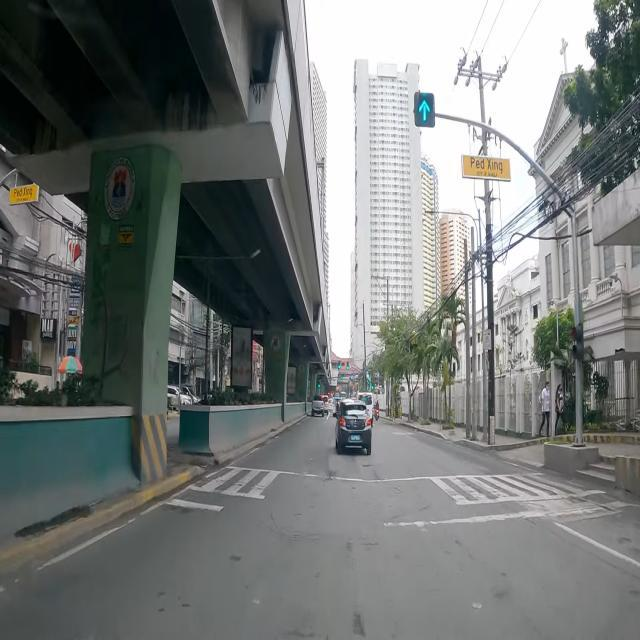car: (336, 397, 372, 454), (167, 385, 192, 408), (311, 395, 324, 418)
motorcycle: (374, 400, 380, 420)
